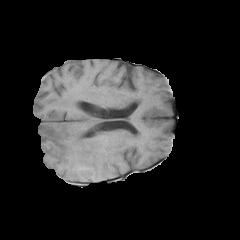glioma: (38, 97, 141, 181)
